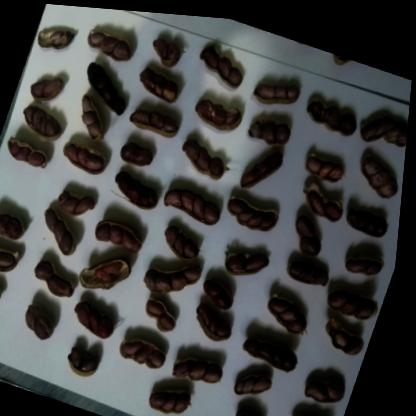Four: (77, 56, 142, 117), (162, 177, 232, 228), (145, 249, 211, 301), (243, 324, 311, 372), (357, 97, 411, 156), (225, 186, 290, 233), (112, 167, 168, 211), (21, 103, 70, 143)
One: (81, 248, 140, 300)
Three: (265, 282, 324, 333), (176, 342, 238, 390), (353, 144, 408, 198), (38, 202, 91, 257), (326, 274, 389, 320), (194, 41, 254, 88), (119, 326, 179, 373), (241, 139, 291, 195), (178, 131, 237, 178), (73, 294, 127, 343), (192, 86, 249, 132), (94, 211, 154, 254), (250, 66, 308, 110), (84, 22, 140, 67), (245, 102, 300, 146), (159, 219, 212, 264), (193, 299, 246, 344), (150, 375, 208, 416), (129, 101, 186, 142), (301, 143, 356, 185), (4, 134, 60, 175), (73, 88, 117, 140), (60, 137, 114, 179), (235, 359, 284, 402), (136, 63, 187, 104), (345, 197, 396, 237), (289, 251, 340, 287), (57, 186, 102, 220), (1, 206, 33, 245), (291, 401, 352, 416), (1, 268, 14, 307)
Two: (297, 171, 356, 224), (303, 88, 366, 134), (224, 233, 280, 282), (34, 252, 87, 303), (325, 311, 379, 359), (288, 206, 339, 256), (308, 355, 360, 403), (22, 297, 69, 350), (201, 270, 249, 314), (35, 16, 81, 61), (68, 341, 113, 383), (145, 27, 189, 69), (146, 294, 190, 335), (30, 64, 69, 108), (349, 242, 391, 275), (119, 136, 158, 170), (1, 235, 30, 279), (235, 398, 284, 416)
